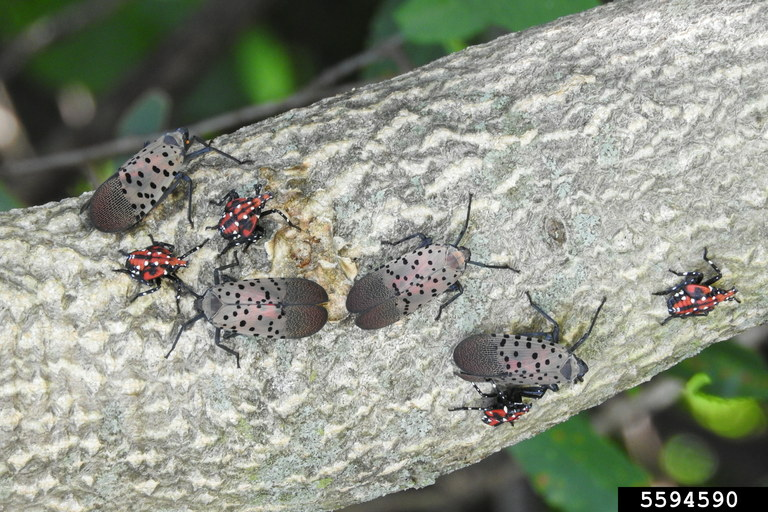adult: (355, 179, 496, 339), (161, 256, 306, 362), (80, 119, 202, 232), (437, 310, 588, 391)
instar nymph (4): (200, 188, 315, 252), (645, 260, 753, 325), (442, 389, 550, 453), (106, 231, 202, 290)
